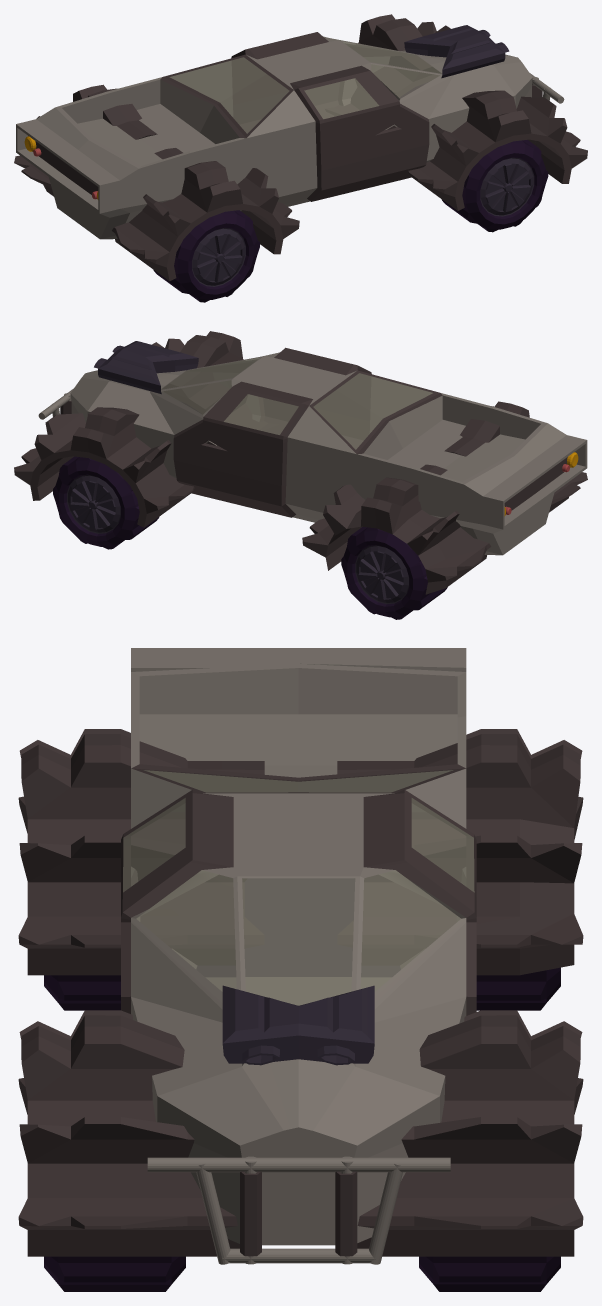
Rendered from Land vehicle for SNAPSHOT.fbx.
3 views of the same model, one above another, from view 1: azimuth 30°, elevation 25°; view 2: azimuth 150°, elevation 25°; view 3: azimuth 270°, elevation 25° (orthographic). The views are drawn at different scales.
Parts seen in each view (by area): view 1: polySurface50; view 2: polySurface50; view 3: polySurface50.
Part boxes in pixels (<box>): polySurface50: <box>14,14,587,302</box>; polySurface50: <box>14,331,587,619</box>; polySurface50: <box>18,648,583,1291</box>.
Size of the model in its own units: 755 by 245 by 392.
